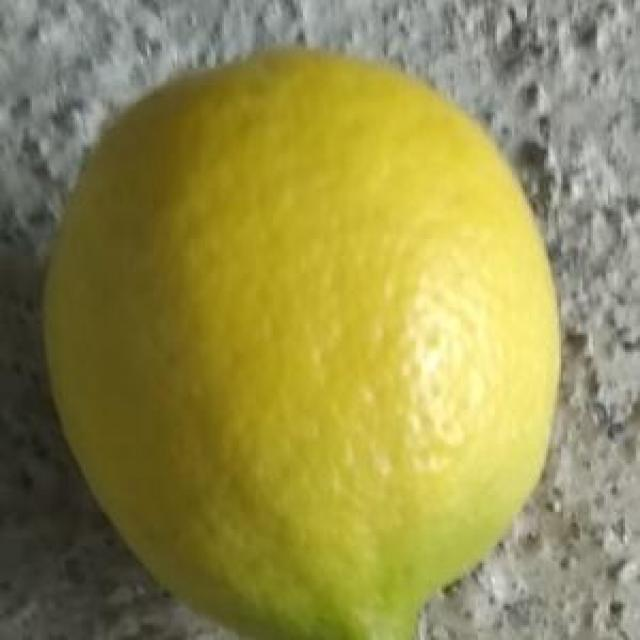lemon: (36, 41, 564, 640)
